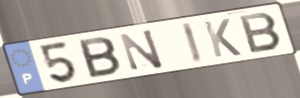5: (36, 39, 80, 85)
B: (76, 35, 124, 80), (237, 11, 285, 55)
I: (178, 20, 206, 66)
K: (201, 17, 244, 60)
N: (116, 27, 166, 72)
